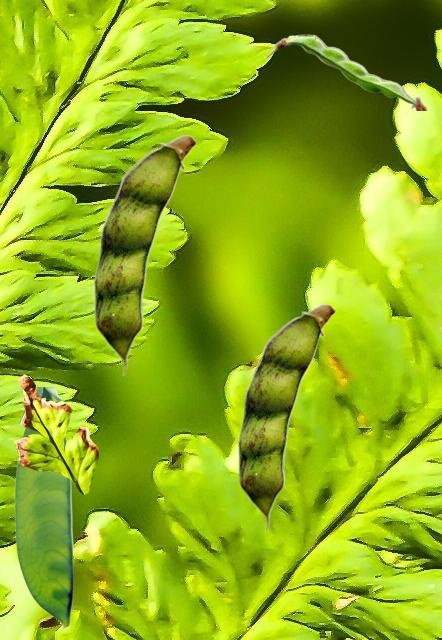pea: (94, 134, 196, 375), (238, 303, 335, 531), (14, 387, 72, 628), (265, 34, 426, 109)
